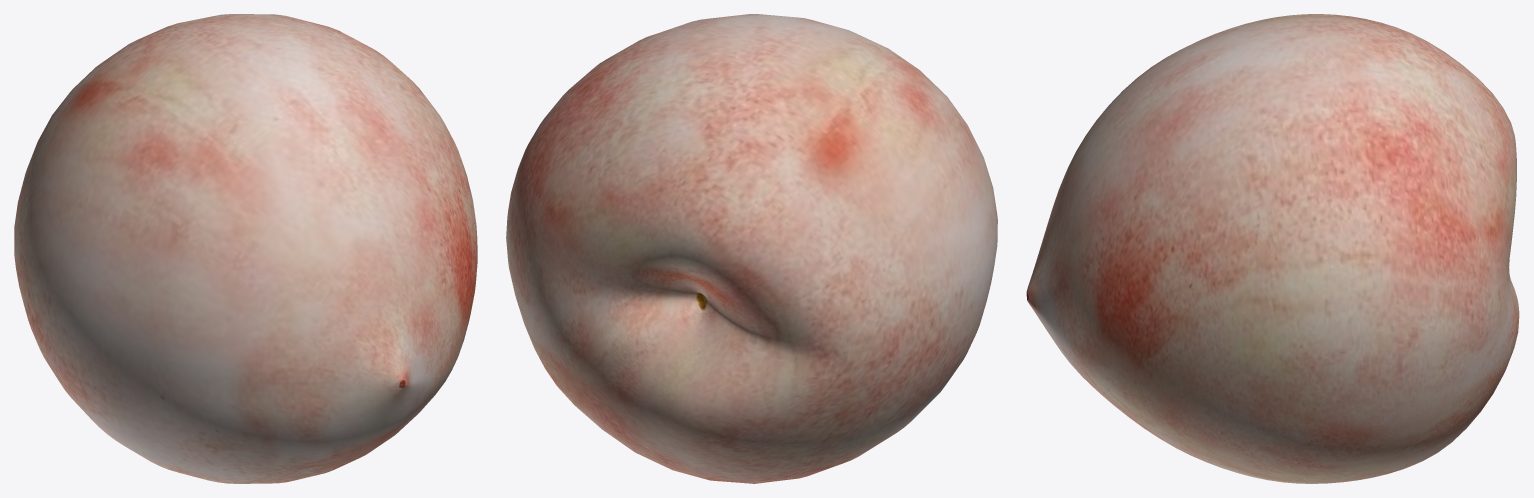
The model's file is HoneyPeachPeel.obj.
3 views of the same model, side by side, from view 1: azimuth 30°, elevation 25°; view 2: azimuth 150°, elevation 25°; view 3: azimuth 270°, elevation 25° (orthographic).
Visible parts, largest first — view 1: HoneyPeachPeel; view 2: HoneyPeachPeel; view 3: HoneyPeachPeel.
Part boxes in pixels (x1,y1,x2,y2): HoneyPeachPeel: [14, 14, 477, 483]; HoneyPeachPeel: [506, 14, 997, 483]; HoneyPeachPeel: [1026, 14, 1519, 483].
Bounding box in the file's own units: 0.1073 × 0.1046 × 0.1097.
Materials: 1 (1 with a texture image).
